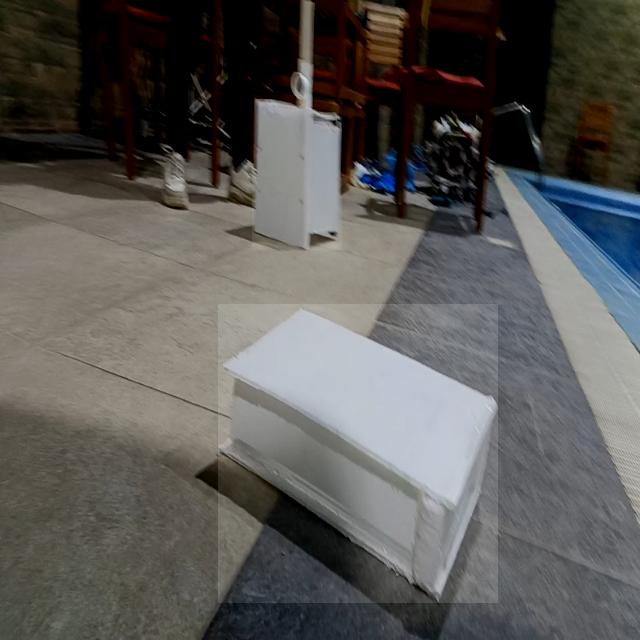Cube: (252, 95, 342, 250)
Cuboid: (218, 304, 498, 603)
